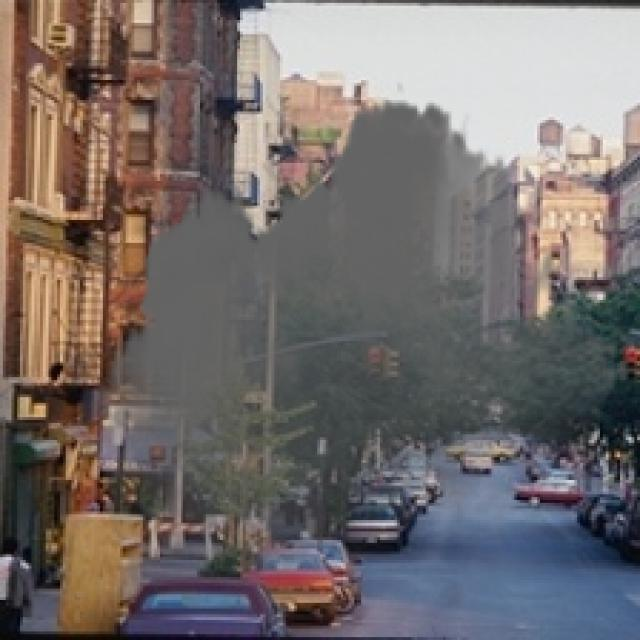smoke: (97, 80, 632, 634)
